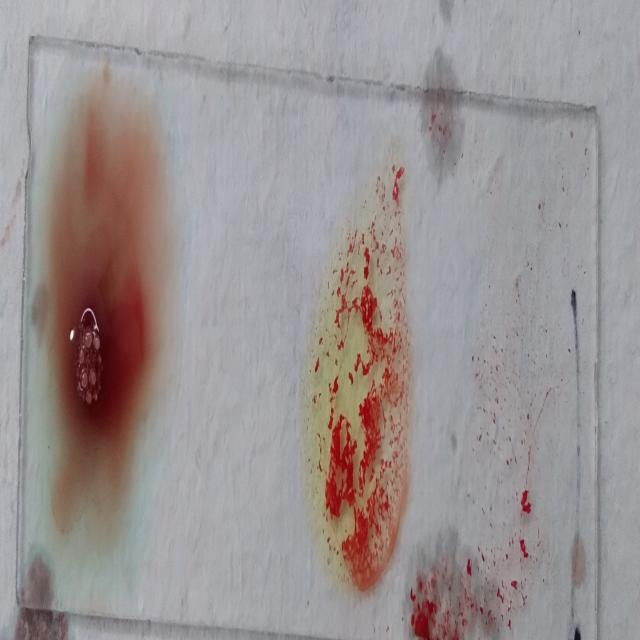B: (312, 152, 411, 598)
D: (474, 241, 556, 631)
